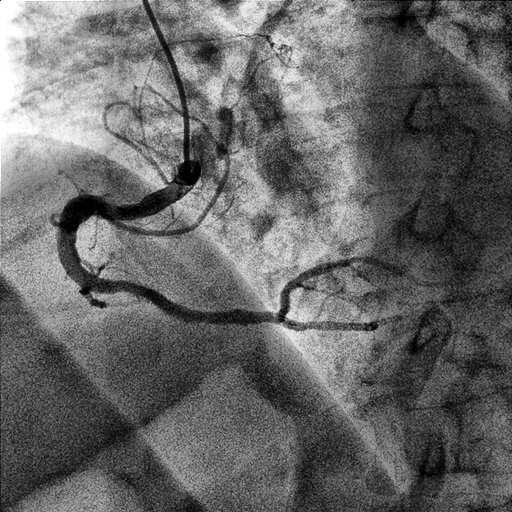pborca: (277, 256, 380, 316)
pda: (282, 308, 414, 332)
rca: (58, 169, 280, 326)
